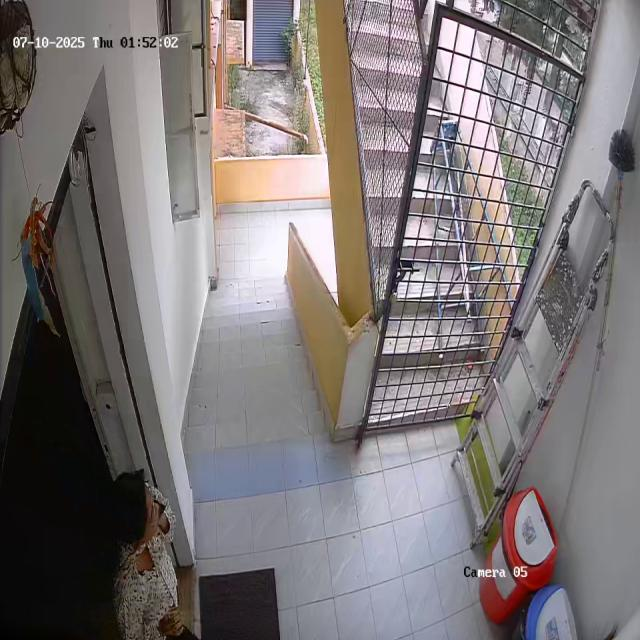person: (96, 465, 194, 640)
